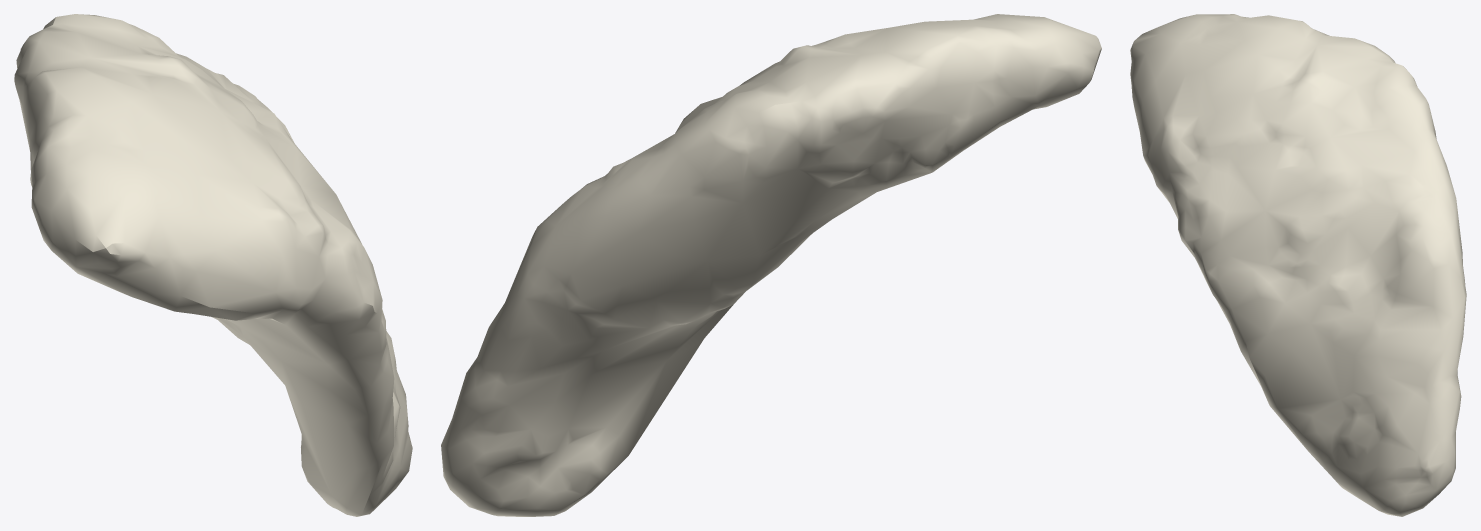
Rendered from fma59103_fj1299.glb.
The picture shows the model from 3 angles, left to right: view 1: azimuth 30°, elevation 25°; view 2: azimuth 150°, elevation 25°; view 3: azimuth 270°, elevation 25°; orthographic projection. The views are drawn at different scales.
Parts seen in each view (by area): view 1: FMA59103_FJ1299; view 2: FMA59103_FJ1299; view 3: FMA59103_FJ1299.
Boxes of the visible parts, box(x1,y1,x2,y2) form: FMA59103_FJ1299: box(14, 14, 412, 516); FMA59103_FJ1299: box(441, 14, 1101, 516); FMA59103_FJ1299: box(1130, 14, 1466, 516).
Bounding box in the file's own units: 0.0148 × 0.0151 × 0.0124.
